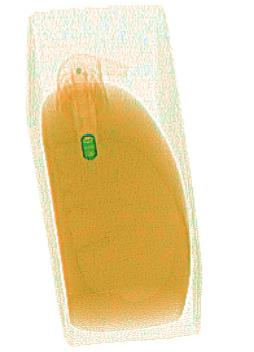plasticBottleWithaNozzle: (40, 51, 190, 333)
